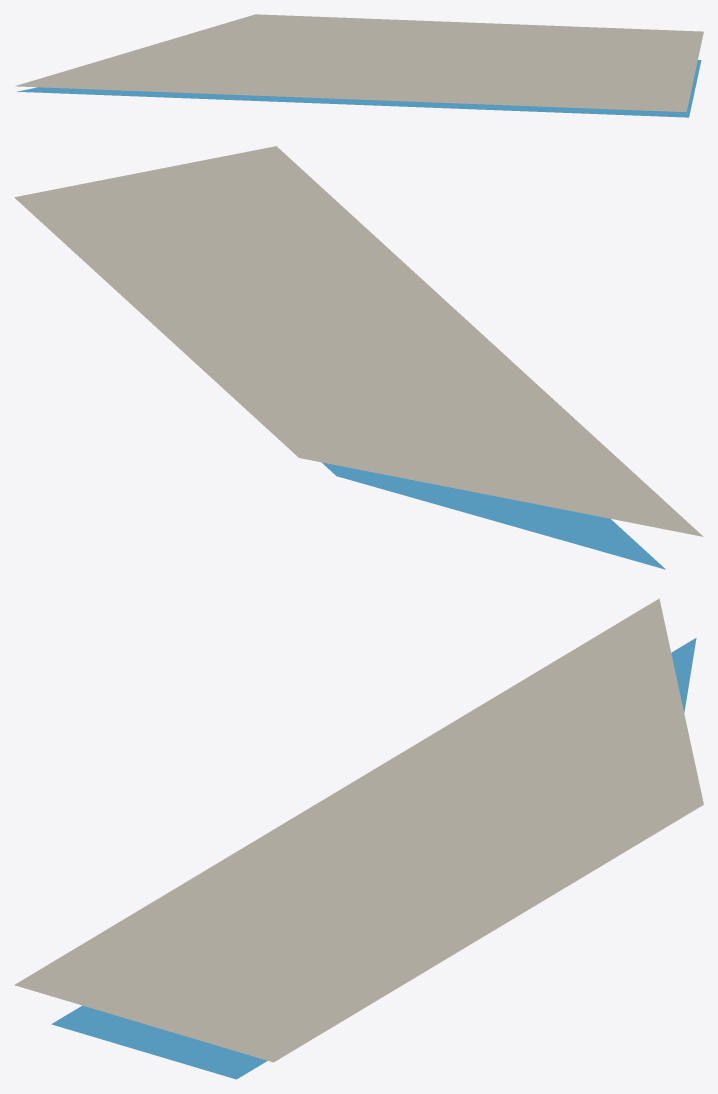
3 views of the same model, one above another, from view 1: azimuth 30°, elevation 25°; view 2: azimuth 150°, elevation 25°; view 3: azimuth 270°, elevation 25° (orthographic). The views are drawn at different scales.
Visible parts, largest first — view 1: estructura_terreno, estructura_agua; view 2: estructura_terreno, estructura_agua; view 3: estructura_terreno, estructura_agua.
Part boxes in pixels (x1,y1,x2,y2): estructura_terreno: (15, 14, 703, 112); estructura_agua: (17, 60, 701, 117); estructura_terreno: (14, 146, 703, 536); estructura_agua: (321, 462, 665, 569); estructura_terreno: (14, 598, 703, 1062); estructura_agua: (51, 637, 696, 1079).
Bounding box in the file's own units: 14.52 × 0.41 × 9.12.
